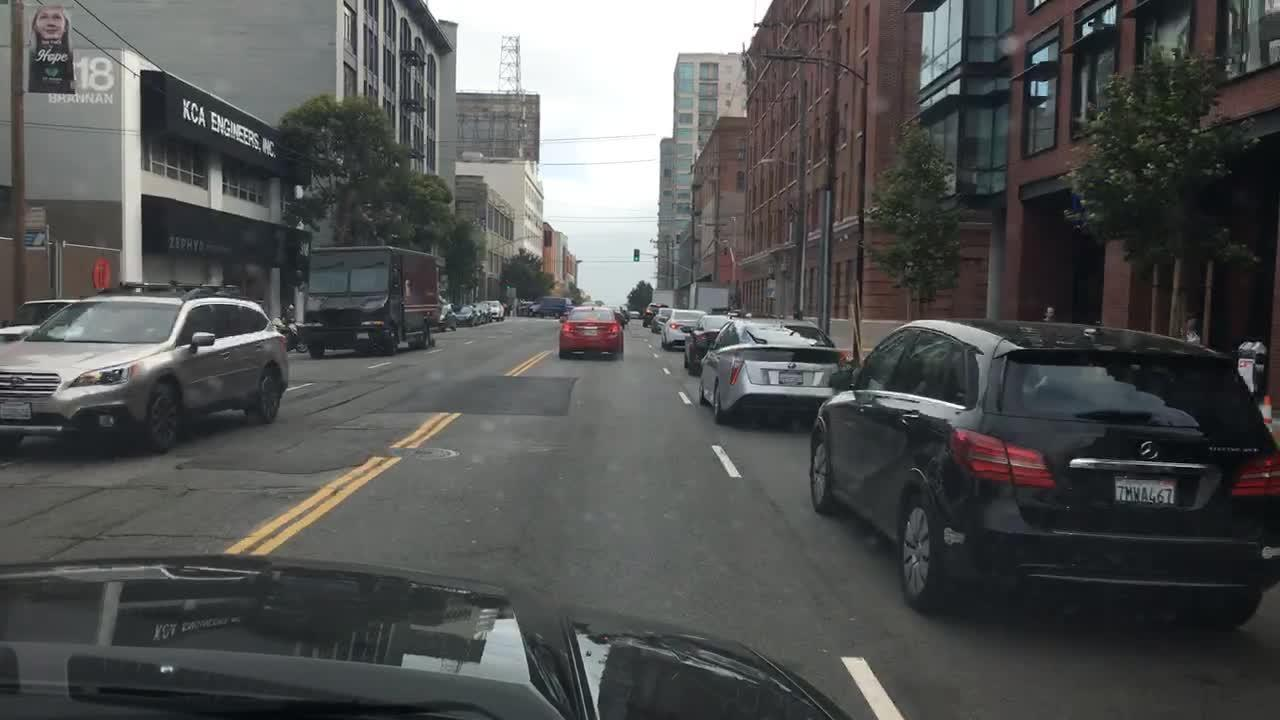Mercedes: (1134, 434, 1165, 464)
